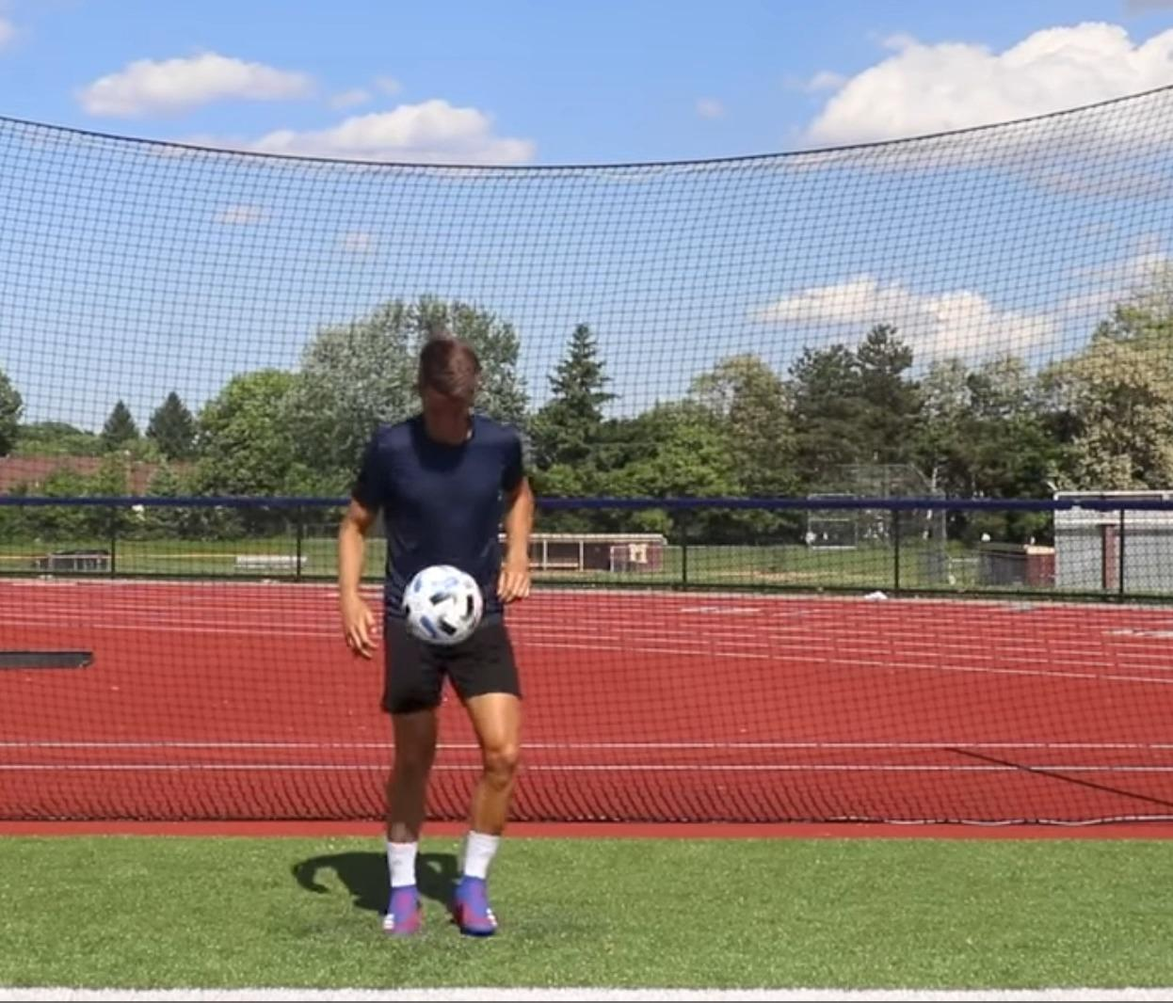ball: (400, 566, 482, 645)
foot: (453, 869, 499, 935), (383, 881, 422, 940)
person: (341, 335, 534, 933)
